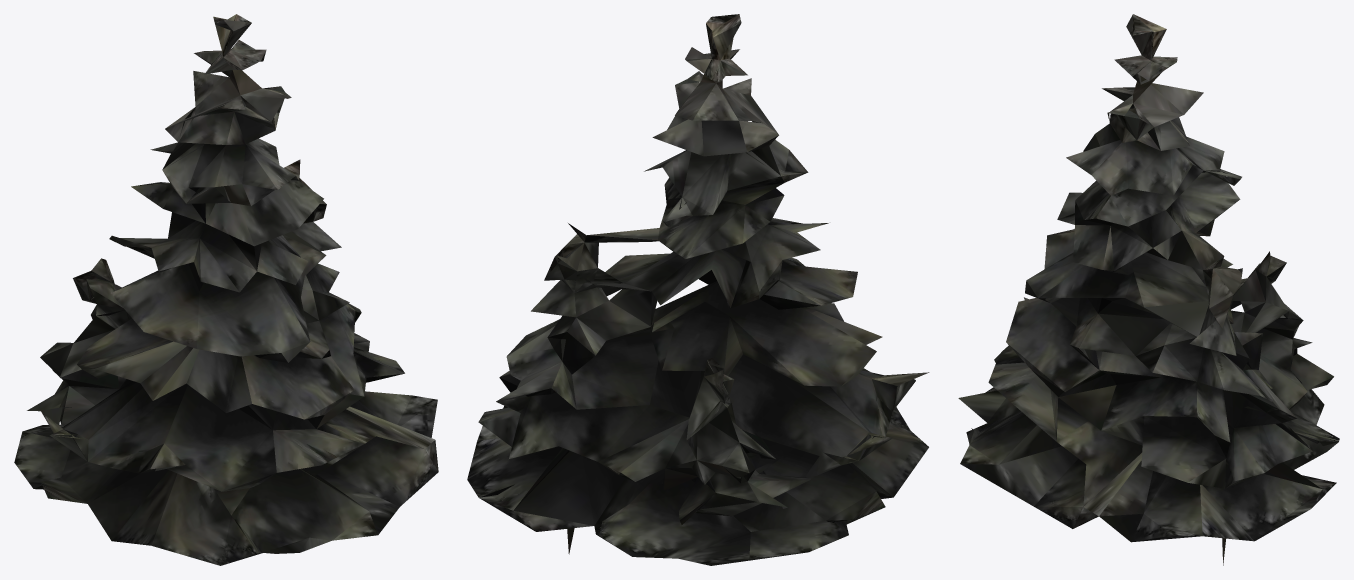
Rendered from tree-4.glb.
3 views of the same model, side by side, from view 1: azimuth 30°, elevation 25°; view 2: azimuth 150°, elevation 25°; view 3: azimuth 270°, elevation 25° (orthographic). The views are drawn at different scales.
Visible parts, largest first — view 1: geometry_0; view 2: geometry_0; view 3: geometry_0.
Part boxes in pixels (x1,y1,x2,y2): geometry_0: [14, 14, 438, 565]; geometry_0: [467, 14, 929, 565]; geometry_0: [958, 14, 1339, 565].
Size of the model in its own units: 0.6976 by 0.9021 by 0.6281.
Materials: 1 (1 with a texture image).
